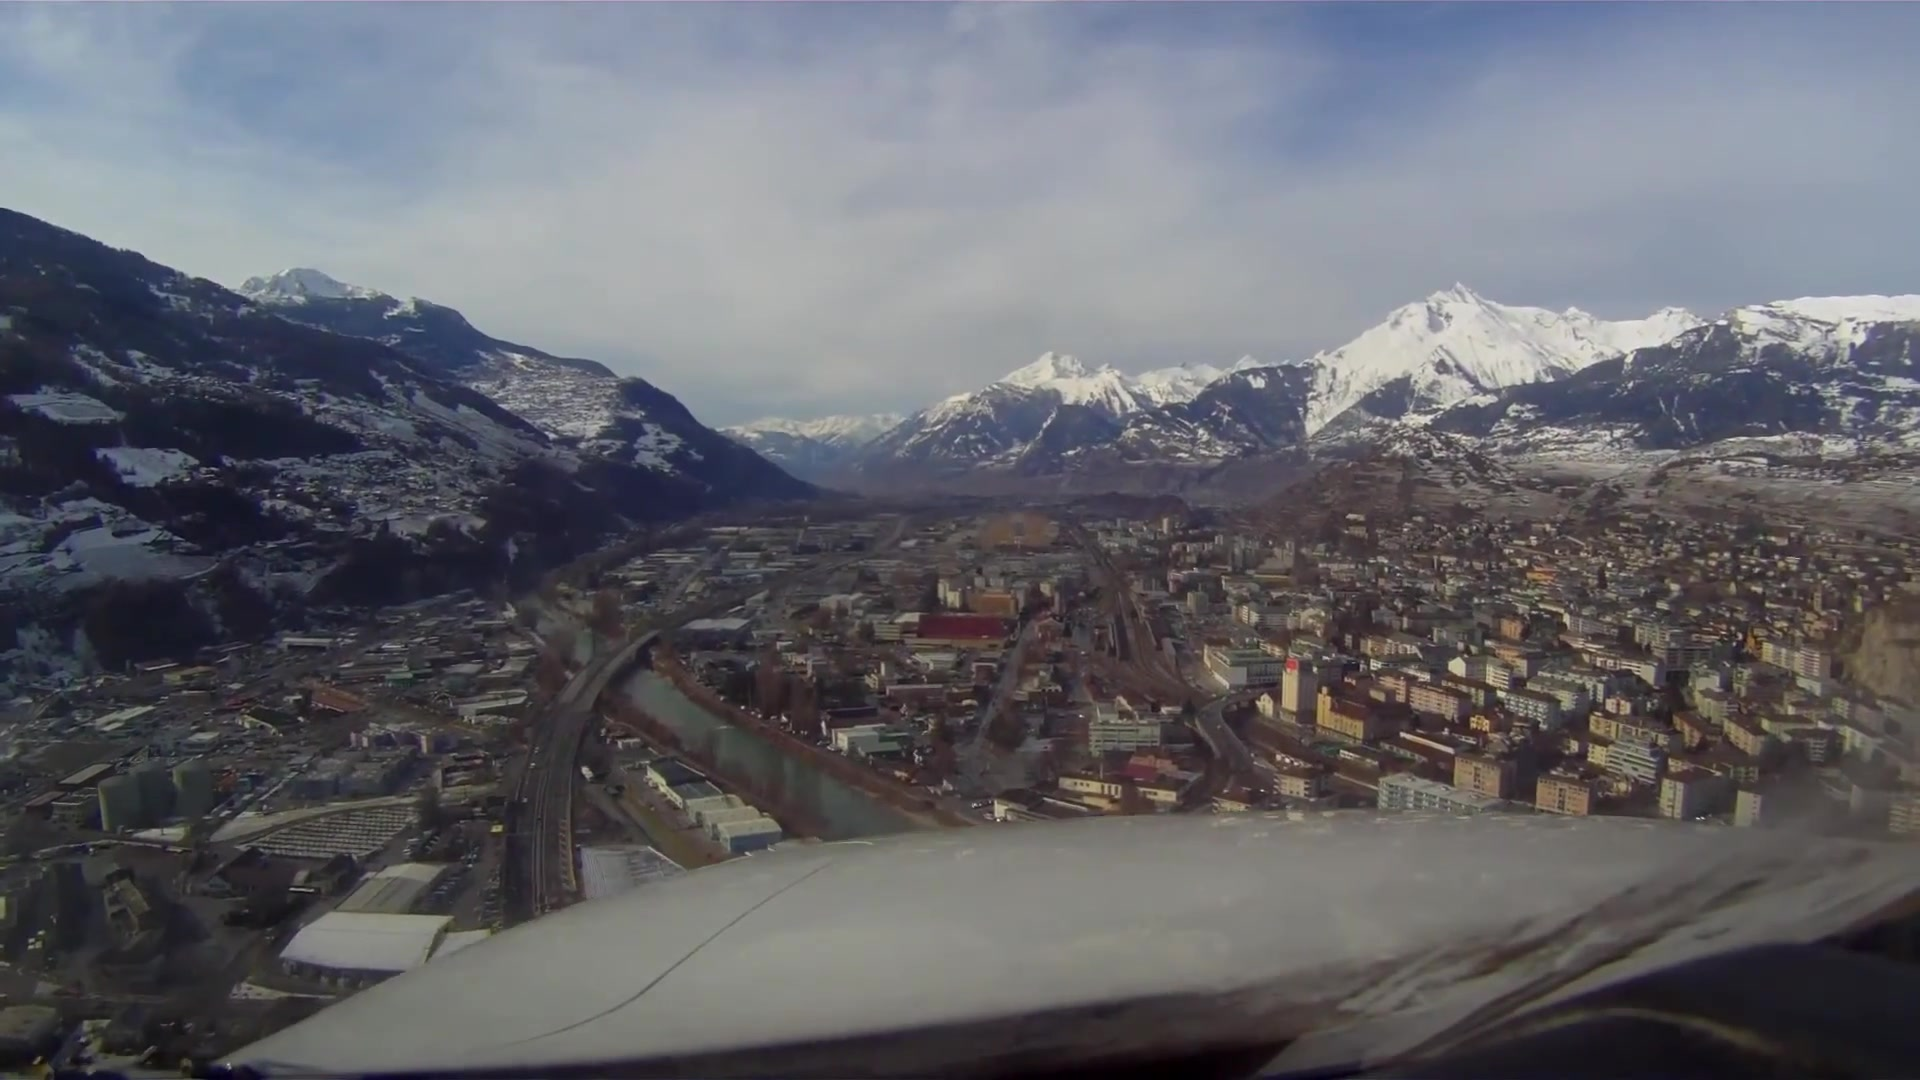runway: (1007, 510, 1027, 541)
